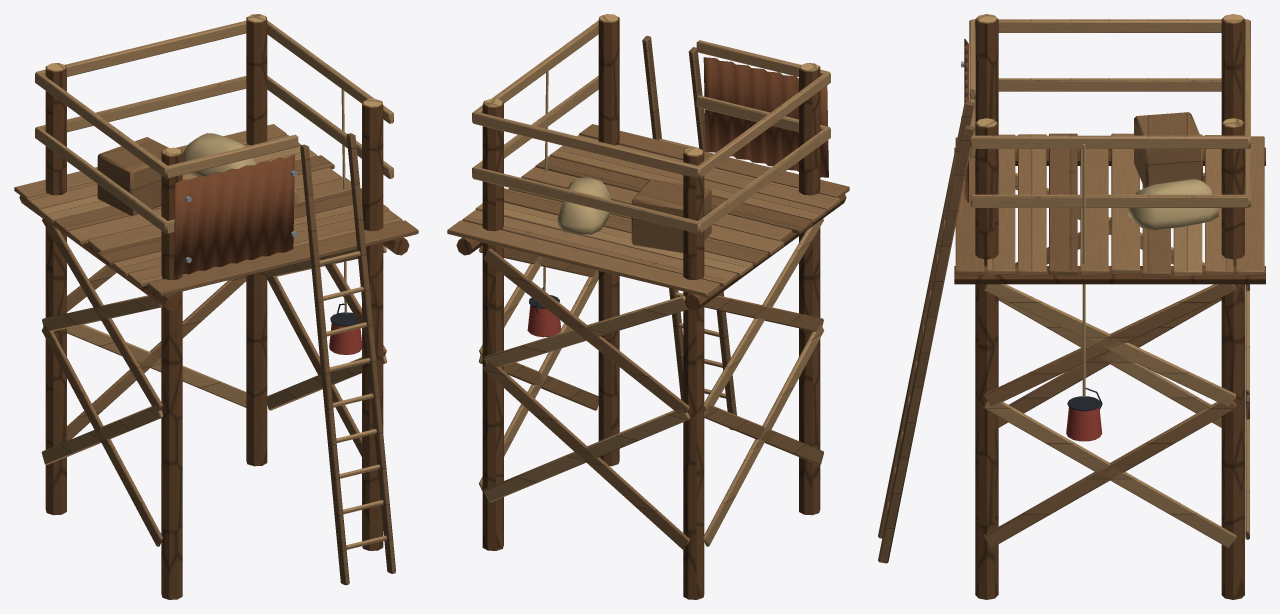
The model's file is lookout_platform.glb.
The picture shows the model from 3 angles, left to right: view 1: azimuth 30°, elevation 25°; view 2: azimuth 150°, elevation 25°; view 3: azimuth 270°, elevation 25°; orthographic projection. The views are drawn at different scales.
Parts seen in each view (by area): view 1: lookout_platform; view 2: lookout_platform; view 3: lookout_platform.
Part boxes in pixels (box(x1,y1,x2,y2)): lookout_platform: box(14, 14, 418, 599); lookout_platform: box(447, 14, 849, 599); lookout_platform: box(878, 14, 1265, 599).
Bounding box in the file's own units: 2.55 × 4.02 × 2.99.
Materials: 14 (14 with a texture image).
